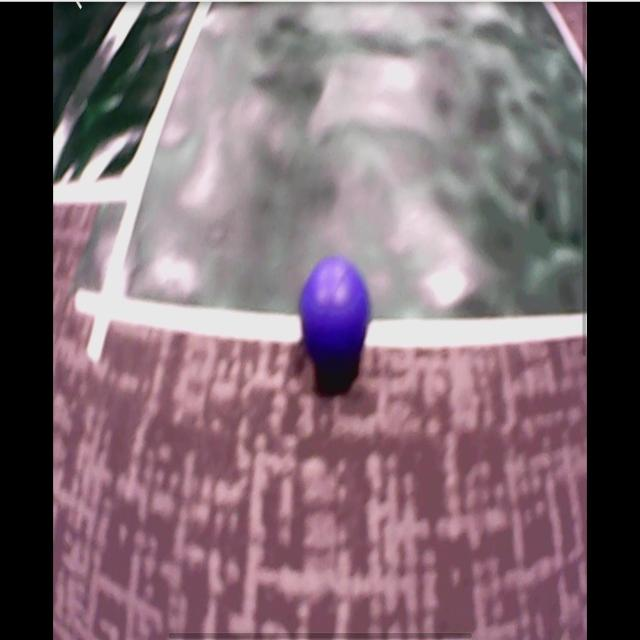ball: (302, 255, 370, 364)
